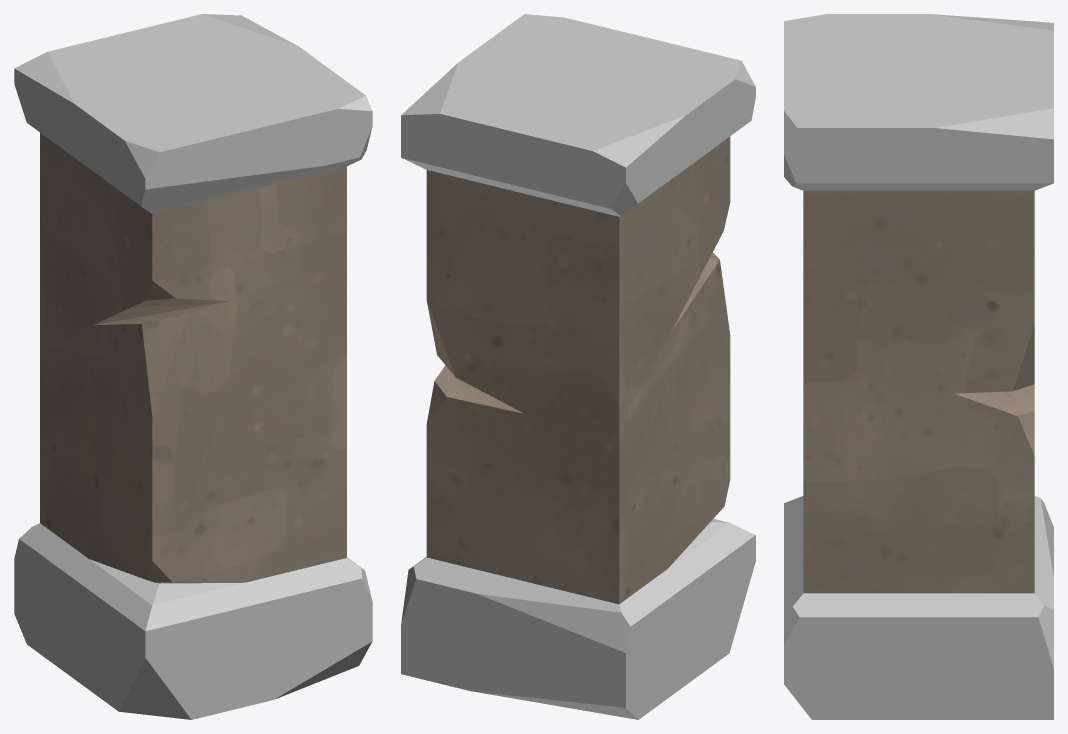
File: Deco_3.fbx
3 views of the same model, side by side, from view 1: azimuth 30°, elevation 25°; view 2: azimuth 150°, elevation 25°; view 3: azimuth 270°, elevation 25° (orthographic). The views are drawn at different scales.
Visible parts, largest first — view 1: _Deco_3; view 2: _Deco_3; view 3: _Deco_3.
Boxes of the visible parts, box(x1,y1,x2,y2) form: _Deco_3: box(14, 14, 372, 719); _Deco_3: box(401, 14, 755, 719); _Deco_3: box(784, 14, 1053, 719).
Bounding box in the file's own units: 51.39 × 124 × 51.39.
